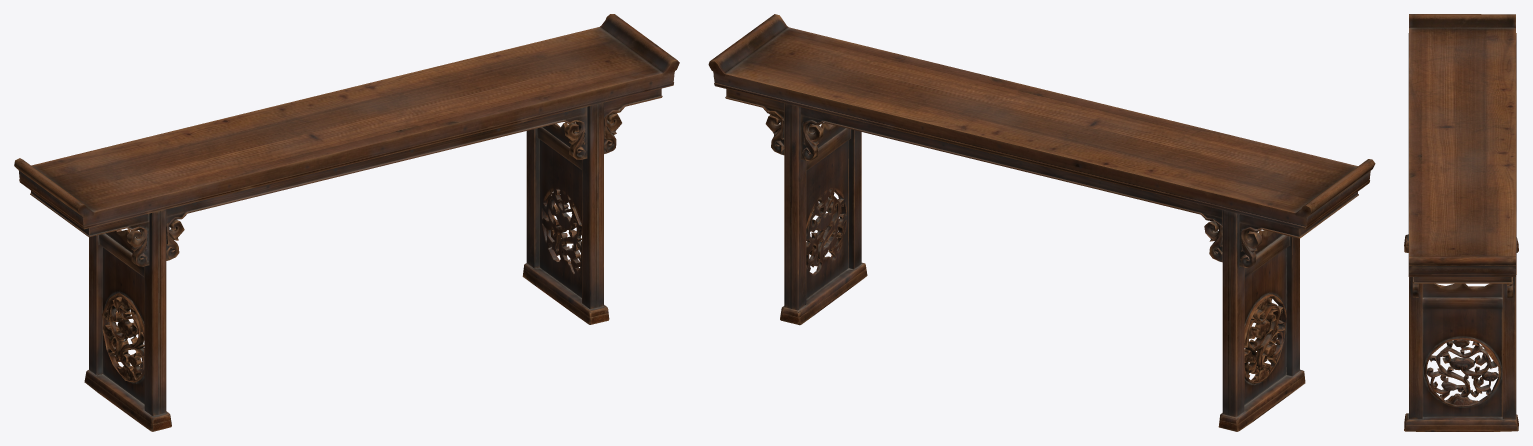
File: chinese_console_table_lod2.glb
3 views of the same model, side by side, from view 1: azimuth 30°, elevation 25°; view 2: azimuth 150°, elevation 25°; view 3: azimuth 270°, elevation 25° (orthographic). The views are drawn at different scales.
Parts seen in each view (by area): view 1: chinese_console_table; view 2: chinese_console_table; view 3: chinese_console_table.
Part boxes in pixels (<box>): chinese_console_table: <box>14,14,679,431</box>; chinese_console_table: <box>708,14,1375,431</box>; chinese_console_table: <box>1404,14,1518,431</box>.
Bounding box in the file's own units: 1.72 × 0.6602 × 0.3386.
1 material, 1 textured.
